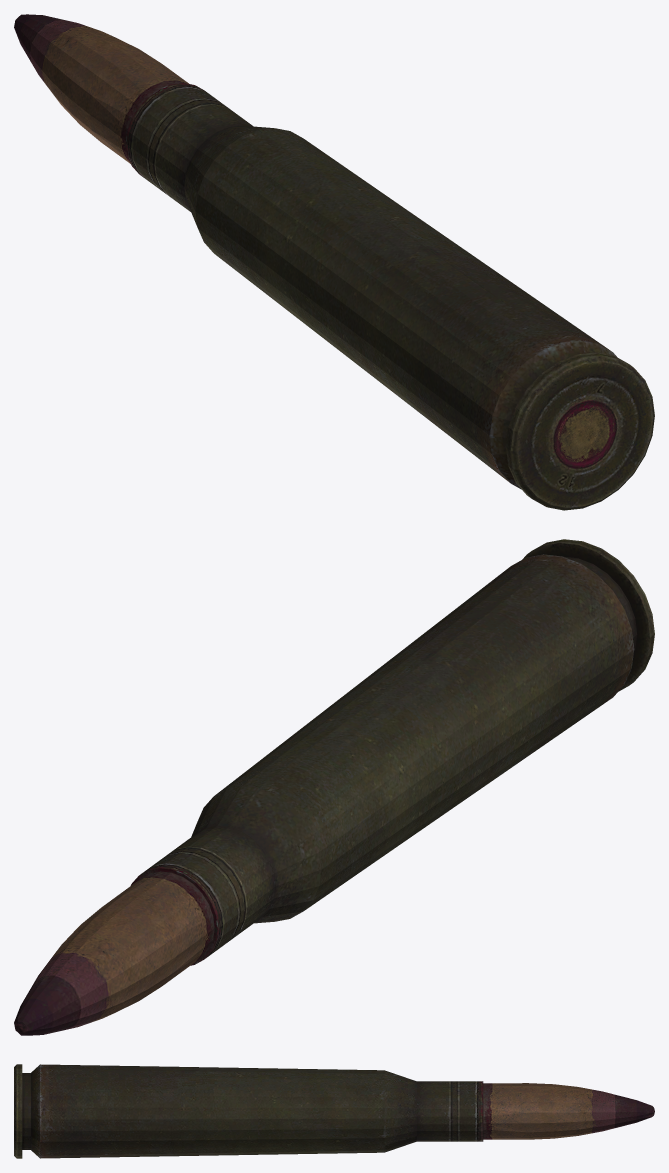
The picture shows the model from 3 angles, top to bottom: view 1: azimuth 30°, elevation 25°; view 2: azimuth 150°, elevation 25°; view 3: azimuth 270°, elevation 25°; orthographic projection. The views are drawn at different scales.
Parts seen in each view (by area): view 1: TW_5cde8864d7f00c0010373be1_PZ_Import; view 2: TW_5cde8864d7f00c0010373be1_PZ_Import; view 3: TW_5cde8864d7f00c0010373be1_PZ_Import.
Boxes of the visible parts, x1,y1,x2,y2 form: TW_5cde8864d7f00c0010373be1_PZ_Import: (14, 14, 654, 510); TW_5cde8864d7f00c0010373be1_PZ_Import: (14, 539, 654, 1035); TW_5cde8864d7f00c0010373be1_PZ_Import: (14, 1064, 654, 1158).
Size of the model in its own units: 0.0126 by 0.0853 by 0.0125.
Materials: 1 (1 with a texture image).
